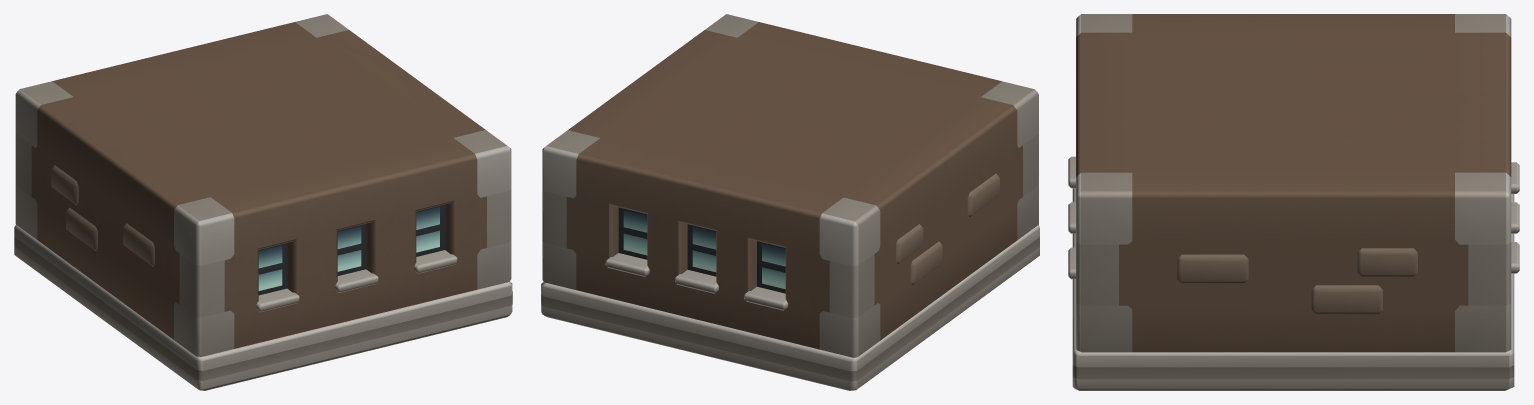
Rendered from appartment_type1_x4_element_beige.fbx.
The picture shows the model from 3 angles, left to right: view 1: azimuth 30°, elevation 25°; view 2: azimuth 150°, elevation 25°; view 3: azimuth 270°, elevation 25°; orthographic projection. The views are drawn at different scales.
Visible parts, largest first — view 1: appartment_type1_x4_element_beige; view 2: appartment_type1_x4_element_beige; view 3: appartment_type1_x4_element_beige.
Part boxes in pixels (box(x1,y1,x2,y2)): appartment_type1_x4_element_beige: box(14, 14, 512, 390); appartment_type1_x4_element_beige: box(541, 14, 1039, 390); appartment_type1_x4_element_beige: box(1068, 14, 1519, 390).
Size of the model in its own units: 819 by 409 by 839.
